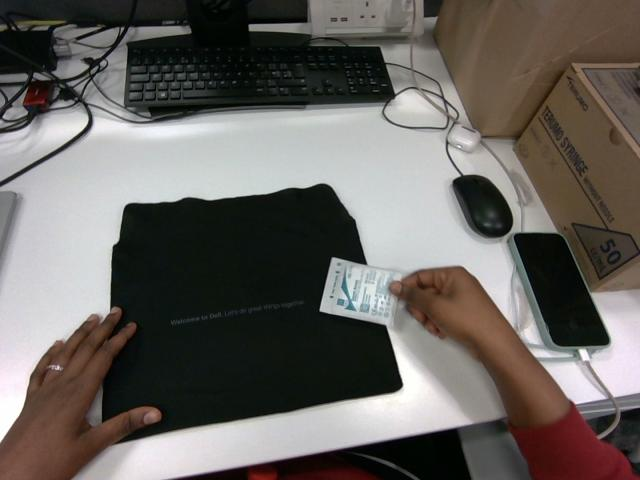gauze: (320, 258, 401, 325)
